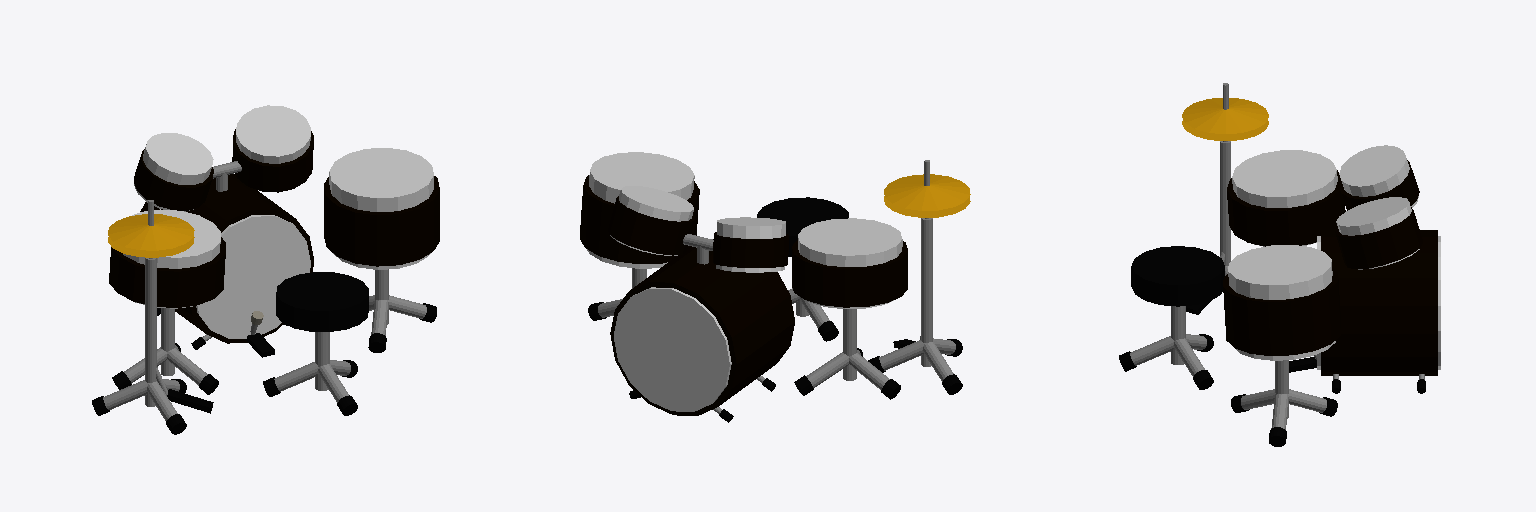
File: Drums.obj
The picture shows the model from 3 angles: view 1: azimuth 30°, elevation 25°; view 2: azimuth 150°, elevation 25°; view 3: azimuth 270°, elevation 25°; orthographic projection.
Visible parts, largest first — view 1: Cylinder.018, Cylinder.049, Cylinder.048, Cylinder, Cylinder.029, Cylinder.058, Cylinder.017, Cylinder.053_Cylinder.063, Cone.001, Cylinder.059, Cylinder.028, Cylinder.052_Cylinder.062 (+11 smaller); view 2: Cylinder.018, Cylinder.017, Cylinder.029, Cylinder.028, Cylinder.048, Cylinder.049, Cylinder.059, Cone.001, Cylinder.052_Cylinder.062, Cylinder, Cylinder.058, Cylinder.053_Cylinder.063 (+7 smaller); view 3: Cylinder.017, Cylinder.049, Cylinder.048, Cylinder.028, Cylinder, Cylinder.029, Cylinder.059, Cylinder.053_Cylinder.063, Cone.001, Cylinder.058, Cylinder.067_Cylinder.075, Cylinder.052_Cylinder.062 (+5 smaller).
Part boxes in pixels (bbox=[...]): Cylinder.018: bbox=[196, 215, 310, 338]; Cylinder.049: bbox=[324, 176, 439, 266]; Cylinder.048: bbox=[329, 148, 433, 269]; Cylinder: bbox=[276, 272, 368, 331]; Cylinder.029: bbox=[109, 237, 225, 307]; Cylinder.058: bbox=[236, 105, 310, 163]; Cylinder.017: bbox=[140, 174, 313, 343]; Cylinder.053_Cylinder.063: bbox=[134, 133, 213, 211]; Cone.001: bbox=[108, 214, 194, 250]; Cylinder.059: bbox=[232, 129, 313, 192]; Cylinder.028: bbox=[123, 209, 220, 308]; Cylinder.052_Cylinder.062: bbox=[134, 149, 213, 210]; Cylinder.018: bbox=[614, 287, 731, 411]; Cylinder.017: bbox=[610, 239, 794, 415]; Cylinder.029: bbox=[792, 239, 907, 307]; Cylinder.028: bbox=[798, 218, 902, 308]; Cylinder.048: bbox=[587, 152, 694, 268]; Cylinder.049: bbox=[580, 175, 699, 263]; Cylinder.059: bbox=[608, 196, 695, 255]; Cone.001: bbox=[884, 174, 970, 210]; Cylinder.052_Cylinder.062: bbox=[713, 232, 788, 267]; Cylinder: bbox=[757, 197, 848, 256]; Cylinder.058: bbox=[610, 186, 693, 255]; Cylinder.053_Cylinder.063: bbox=[716, 217, 785, 272]; Cylinder.017: bbox=[1321, 230, 1437, 375]; Cylinder.049: bbox=[1223, 267, 1340, 355]; Cylinder.048: bbox=[1228, 245, 1335, 360]; Cylinder.028: bbox=[1232, 150, 1337, 246]; Cylinder: bbox=[1131, 246, 1224, 306]; Cylinder.029: bbox=[1227, 170, 1345, 246]; Cylinder.059: bbox=[1335, 207, 1422, 268]; Cylinder.053_Cylinder.063: bbox=[1339, 145, 1418, 207]; Cone.001: bbox=[1182, 98, 1268, 133]; Cylinder.058: bbox=[1336, 197, 1419, 269]; Cylinder.067_Cylinder.075: bbox=[1220, 141, 1230, 265]; Cylinder.052_Cylinder.062: bbox=[1339, 160, 1419, 210].
Size of the model in its own units: 7.04 by 4.05 by 5.51.